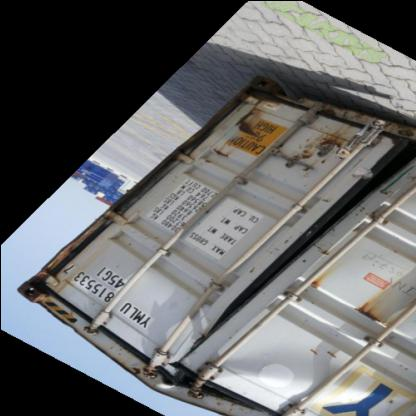Damage: (204, 248, 320, 370), (290, 120, 414, 232), (210, 106, 264, 184), (20, 268, 77, 326), (342, 298, 386, 332)
